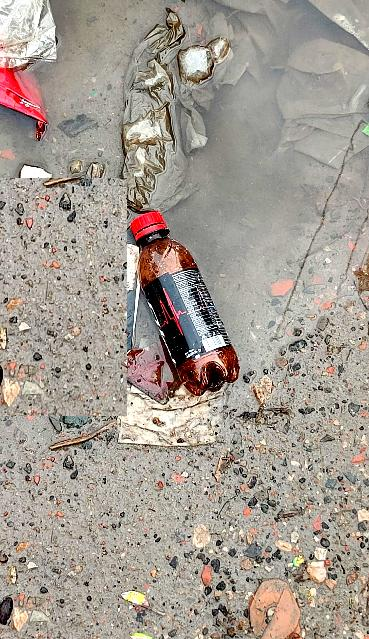bottle: (101, 184, 266, 397)
